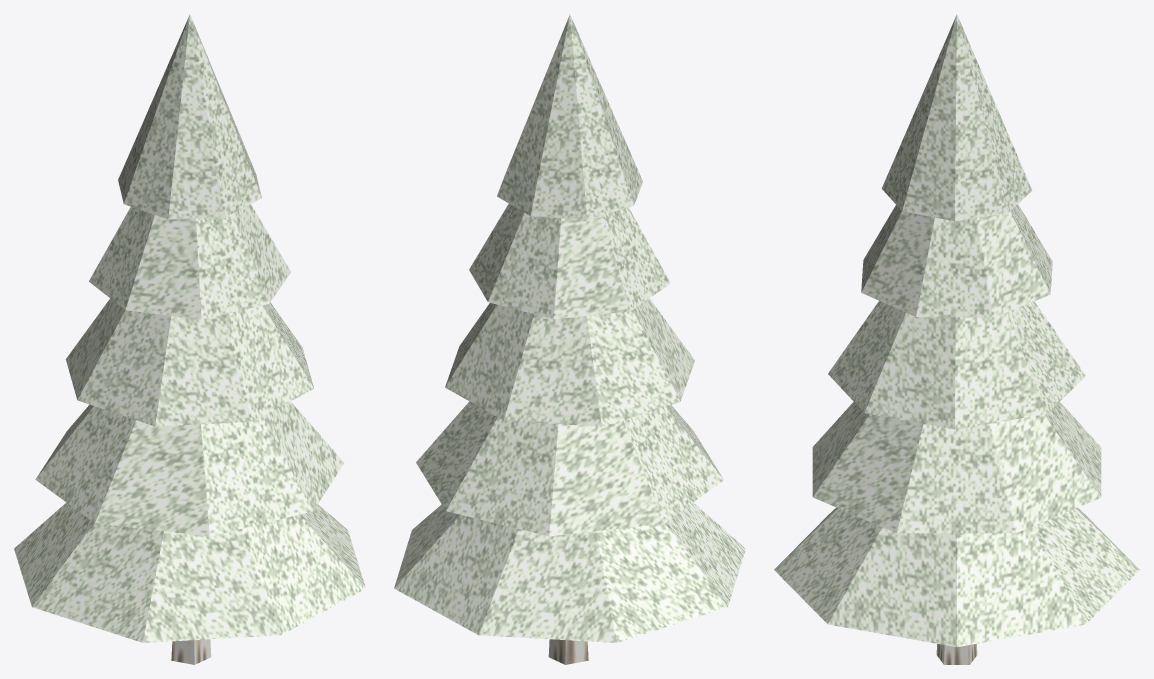
Rendered from abete_a.obj.
3 views of the same model, side by side, from view 1: azimuth 30°, elevation 25°; view 2: azimuth 150°, elevation 25°; view 3: azimuth 270°, elevation 25° (orthographic).
Parts seen in each view (by area): view 1: abete_a; view 2: abete_a; view 3: abete_a.
Part boxes in pixels (<box>): abete_a: <box>14,14,365,664</box>; abete_a: <box>394,14,745,664</box>; abete_a: <box>774,14,1139,664</box>.
Bounding box in the file's own units: 3.4 × 6.6 × 3.4.
Materials: 4 (4 with a texture image).
